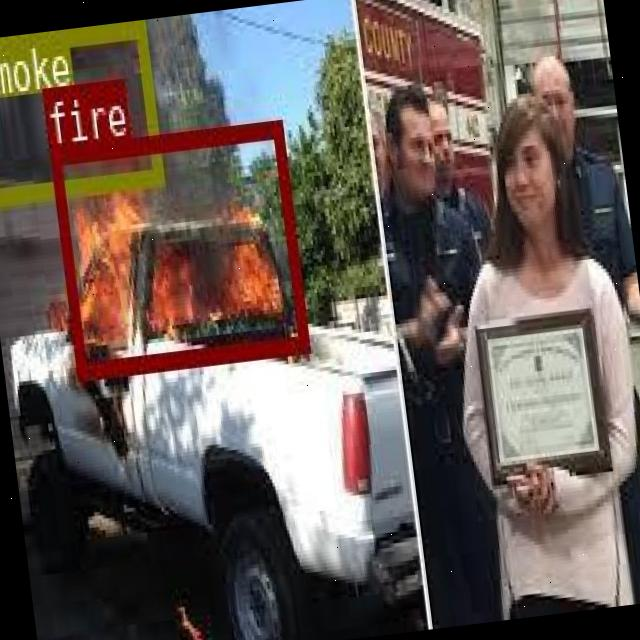fire: (46, 119, 308, 378)
smoke: (0, 19, 161, 204)
